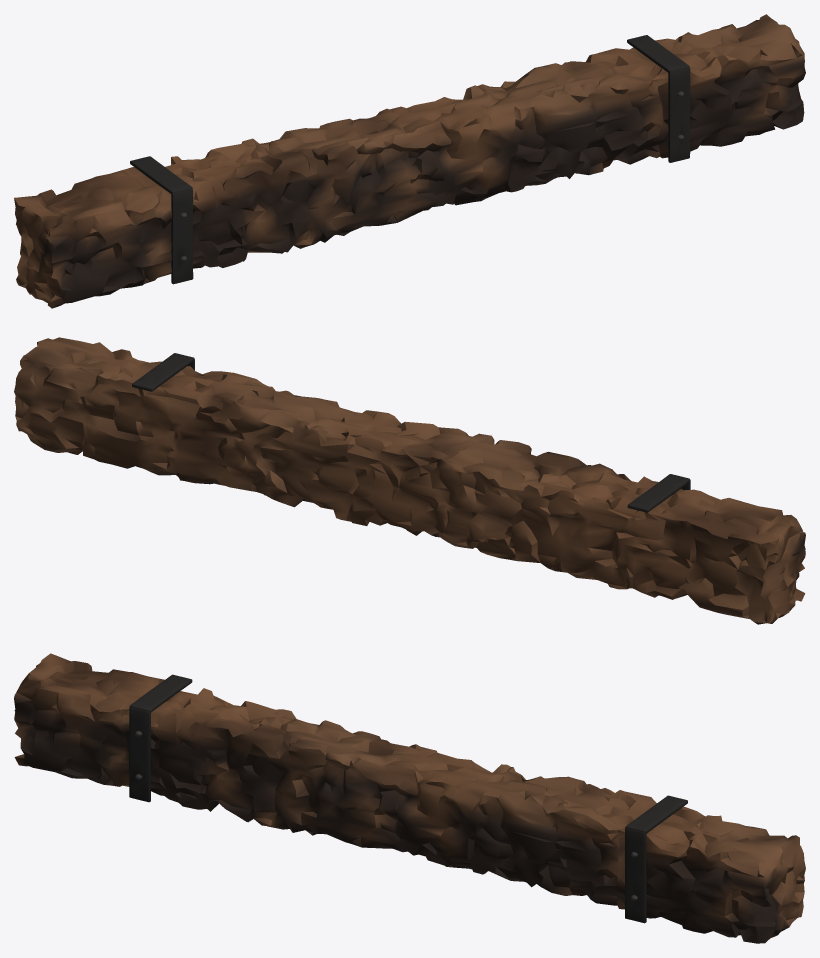
Rendered from ember_lintel_beam.glb.
3 renders of one model, top to bottom at view 1: azimuth 30°, elevation 25°; view 2: azimuth 150°, elevation 25°; view 3: azimuth 330°, elevation 25°, orthographic.
Visible parts, largest first — view 1: ember_lintel_beam; view 2: ember_lintel_beam; view 3: ember_lintel_beam.
Boxes of the visible parts, x1,y1,x2,y2 form: ember_lintel_beam: (14, 14, 805, 308); ember_lintel_beam: (14, 337, 805, 624); ember_lintel_beam: (14, 653, 805, 943).
Bounding box in the file's own units: 110 × 13.05 × 11.44.
